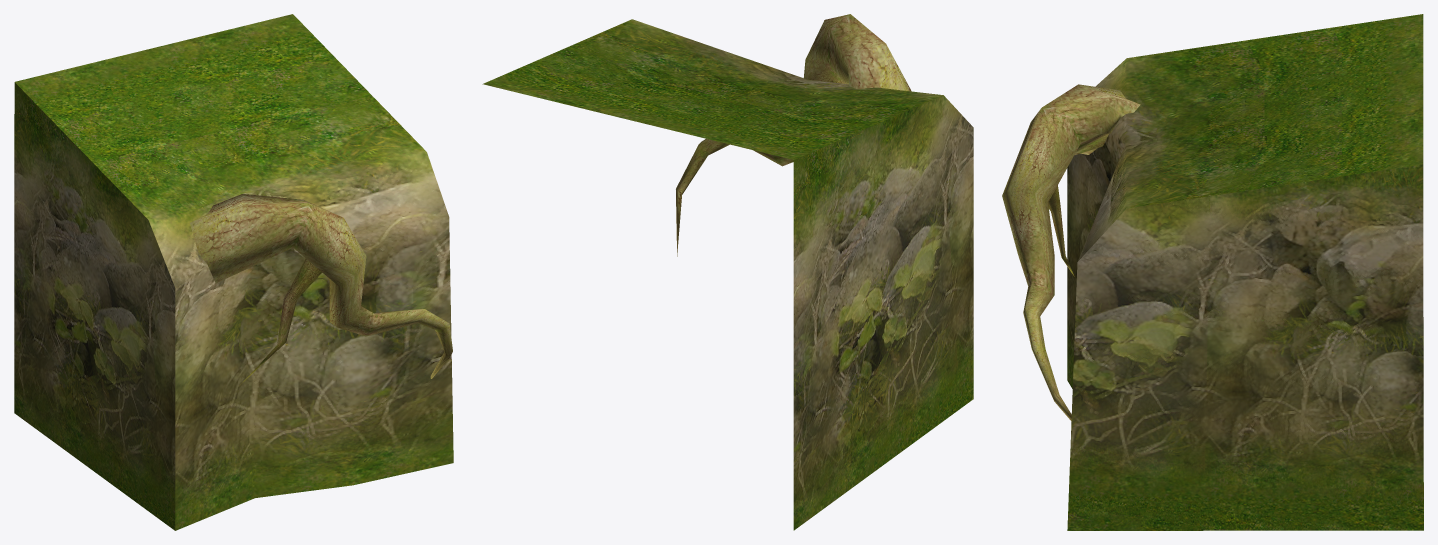
File: n_tilewallA_3.glb
The picture shows the model from 3 angles, left to right: view 1: azimuth 30°, elevation 25°; view 2: azimuth 150°, elevation 25°; view 3: azimuth 270°, elevation 25°; orthographic projection. The views are drawn at different scales.
Visible parts, largest first — view 1: n_tilewallA_3; view 2: n_tilewallA_3; view 3: n_tilewallA_3.
Boxes of the visible parts, x1,y1,x2,y2 form: n_tilewallA_3: [14, 14, 453, 530]; n_tilewallA_3: [482, 14, 973, 530]; n_tilewallA_3: [1002, 14, 1423, 530].
Bounding box in the file's own units: 3 × 3.41 × 3.56.
2 materials, 2 textured.
